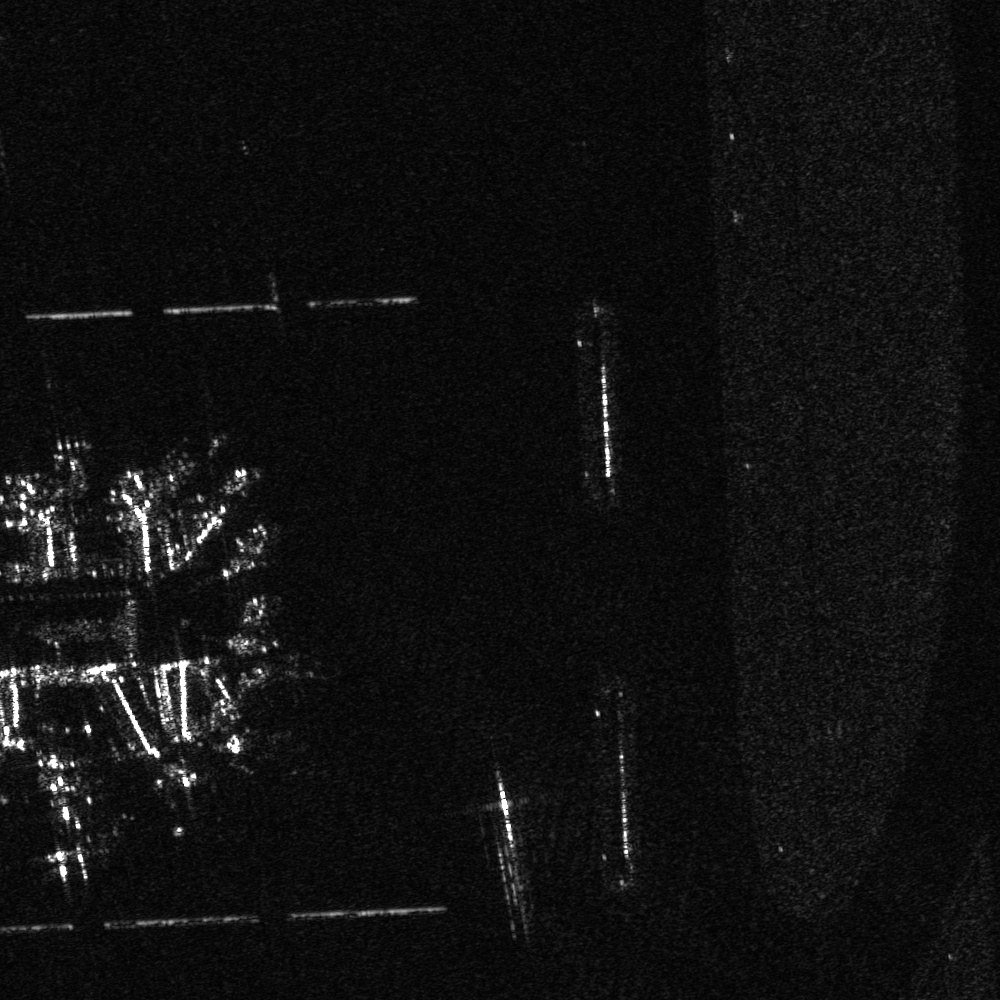Boeing737: (153, 764, 217, 822)
other: (21, 772, 112, 884)
